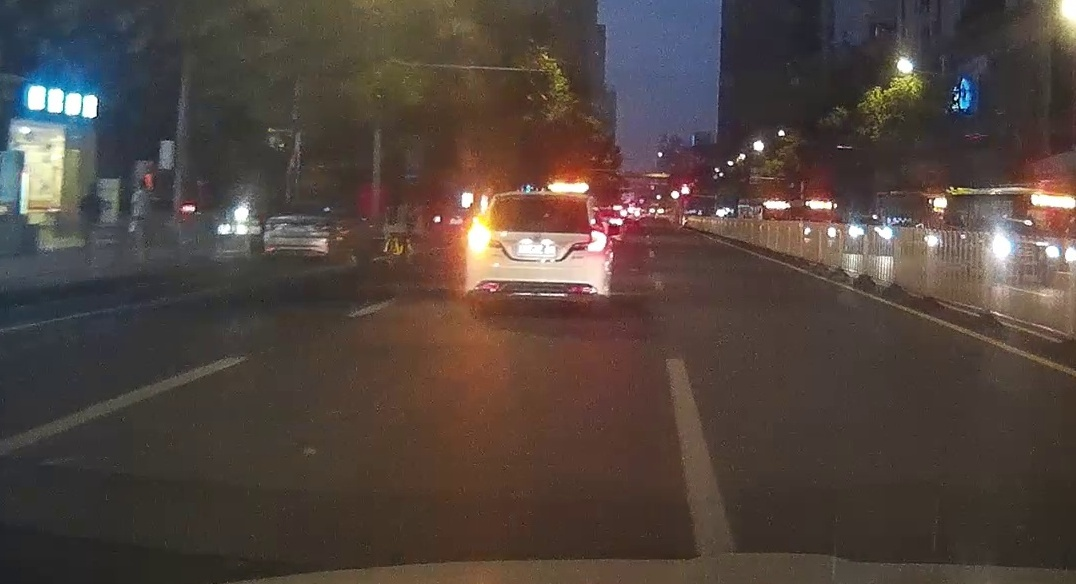L_light: (468, 224, 490, 253)
R_light: (587, 229, 607, 254)
T_light: (530, 192, 549, 198)
night-no: (466, 191, 607, 314)
